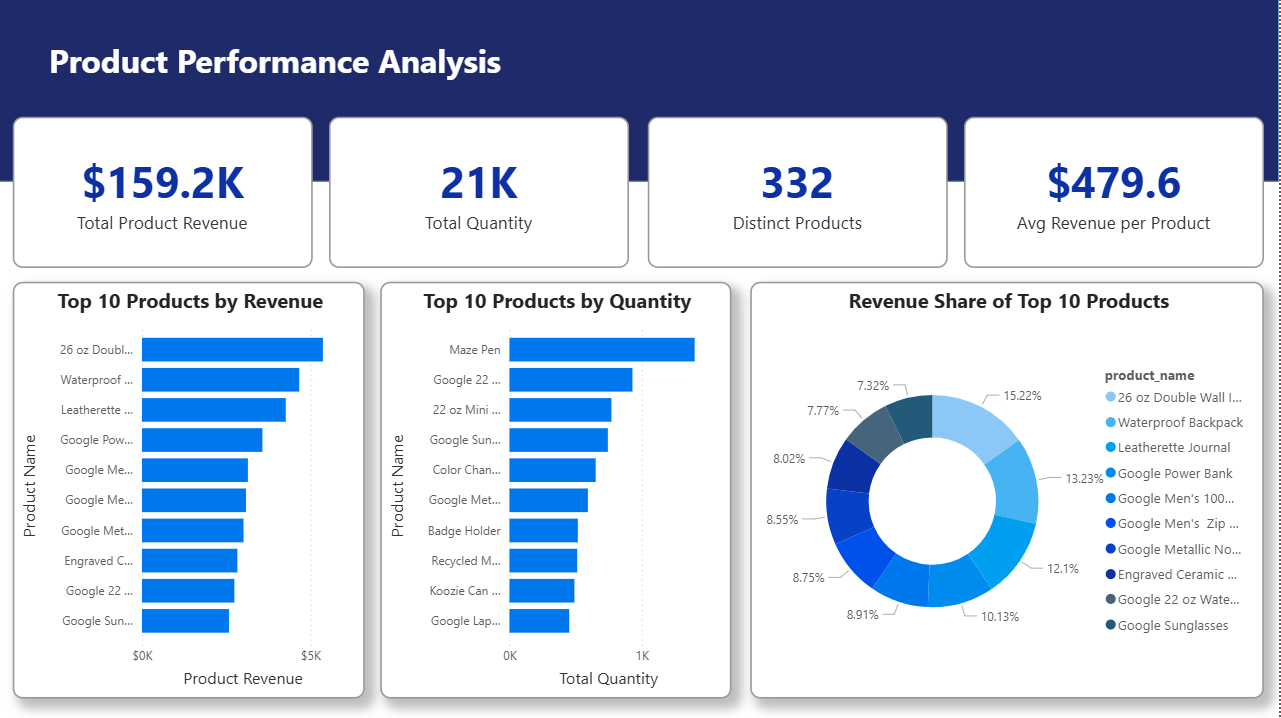

The dashboard page shown, as its layout file describes it:
{"tool":"powerbi","page":{"name":"Product & Category Analysis","canvas":[1280,720],"ordinal":3},"visuals":[{"type":"shape","box":[0,0,1280,183.8],"z":0},{"type":"card","fields":{"Values":["order_items_clean.Total Product Revenue"]},"box":[13.8,118.8,300,151.2],"z":1000},{"type":"card","fields":{"Values":["order_items_clean.Total Quantity"]},"box":[330,118.8,300,151.2],"z":2000},{"type":"card","fields":{"Values":["order_items_clean.Distinct Products"]},"box":[648.8,118.8,300,151.2],"z":3000},{"type":"card","fields":{"Values":["order_items_clean.Avg Revenue per Product"]},"box":[965,118.8,300,151.2],"z":4000},{"type":"textbox","box":[45.6,36.7,536.7,55.7],"z":10000},{"type":"clusteredBarChart","title":"Top 10 Products by Revenue","fields":{"Category":["order_items_clean.product_name"],"Y":["order_items_clean.Product Revenue"]},"box":[13.9,283.5,351.9,416.5],"z":10001},{"type":"clusteredBarChart","title":"Top 10 Products by Quantity","fields":{"Category":["order_items_clean.product_name"],"Y":["order_items_clean.Total Quantity"]},"box":[381,283.5,351,416.5],"z":10002},{"type":"donutChart","title":"Revenue Share of Top 10 Products","fields":{"Category":["order_items_clean.product_name"],"Y":["order_items_clean.Product Revenue"]},"box":[750.6,283.5,513.9,416.5],"z":10003}]}

Visuals, with their boxes in screenshot pixels (x1, y1, x2, y2), scaled from the page's 1280x720 canvas onto the 1281x718 screenshot:
shape: (0,0,1280,183)
card - order_items_clean.Total Product Revenue: (14,118,314,269)
card - order_items_clean.Total Quantity: (330,118,630,269)
card - order_items_clean.Distinct Products: (649,118,950,269)
card - order_items_clean.Avg Revenue per Product: (966,118,1266,269)
textbox: (46,37,583,92)
"Top 10 Products by Revenue" clusteredBarChart: (14,283,366,698)
"Top 10 Products by Quantity" clusteredBarChart: (381,283,733,698)
"Revenue Share of Top 10 Products" donutChart: (751,283,1265,698)
